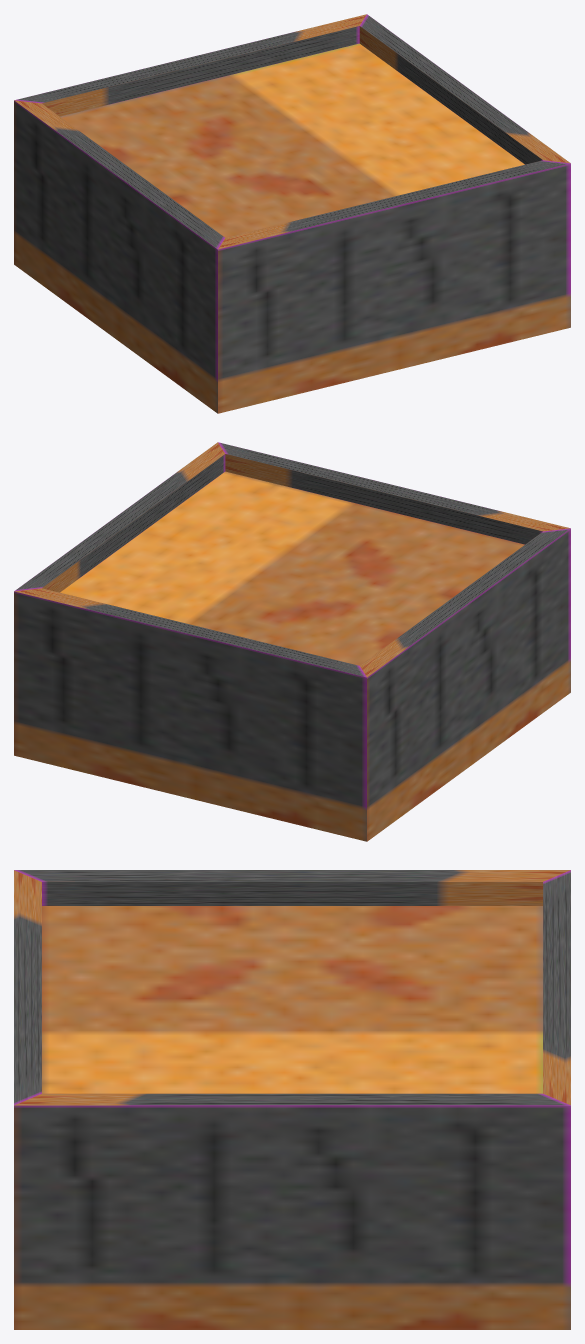
Rendered from apple_pie.obj.
The picture shows the model from 3 angles, top to bottom: view 1: azimuth 30°, elevation 25°; view 2: azimuth 150°, elevation 25°; view 3: azimuth 270°, elevation 25°; orthographic projection. The views are drawn at different scales.
Parts seen in each view (by area): view 1: Cube; view 2: Cube; view 3: Cube.
Part boxes in pixels (x1,y1,x2,y2): Cube: (14,14,570,413); Cube: (14,442,570,841); Cube: (14,870,570,1329).
Size of the model in its own units: 0.9 by 0.4 by 0.9.
